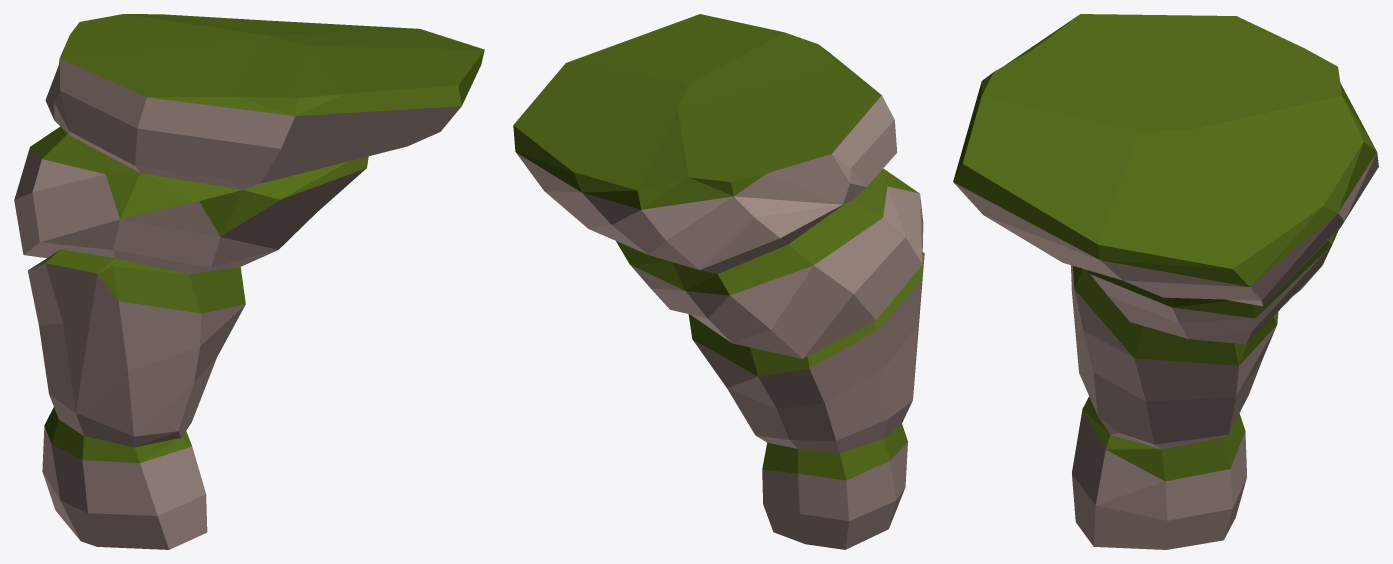
Rendered from Rock_25.fbx.
3 renders of one model, left to right at view 1: azimuth 30°, elevation 25°; view 2: azimuth 150°, elevation 25°; view 3: azimuth 270°, elevation 25°, orthographic. The views are drawn at different scales.
Parts seen in each view (by area): view 1: Rock_25; view 2: Rock_25; view 3: Rock_25.
Boxes of the visible parts, x1,y1,x2,y2 form: Rock_25: [14, 14, 484, 549]; Rock_25: [513, 14, 924, 549]; Rock_25: [953, 14, 1378, 549].
Bounding box in the file's own units: 10.25 × 10.61 × 8.21.
